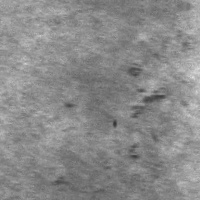rolled-in_scale: (121, 61, 172, 166)
